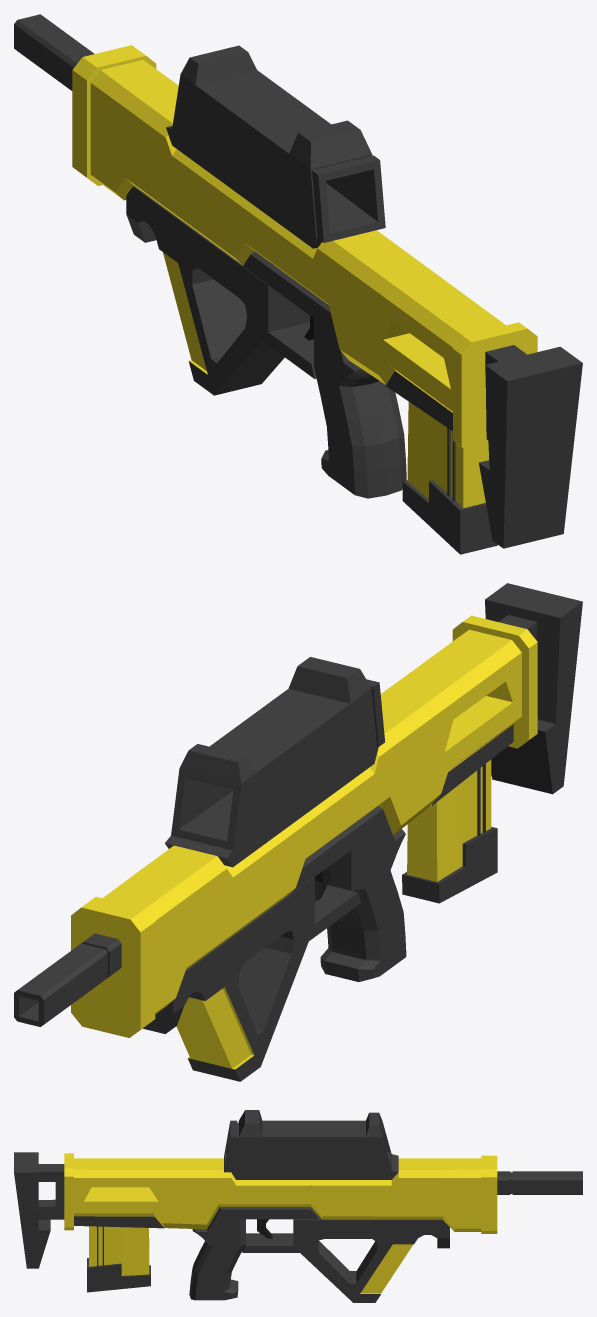
Rendered from Rifle.fbx.
3 renders of one model, top to bottom at view 1: azimuth 30°, elevation 25°; view 2: azimuth 150°, elevation 25°; view 3: azimuth 270°, elevation 25°, orthographic. The views are drawn at different scales.
Parts seen in each view (by area): view 1: Rifle, Ammo; view 2: Rifle, Ammo; view 3: Rifle, Ammo.
Part boxes in pixels (bbox=[...]): Rifle: bbox=[14, 14, 582, 548]; Ammo: bbox=[402, 402, 497, 554]; Rifle: bbox=[14, 583, 582, 1081]; Ammo: bbox=[402, 759, 497, 903]; Rifle: bbox=[14, 1110, 582, 1302]; Ammo: bbox=[87, 1226, 150, 1292].
Size of the model in its own units: 17.47 by 205 by 71.33.
Materials: 1 (1 with a texture image).
